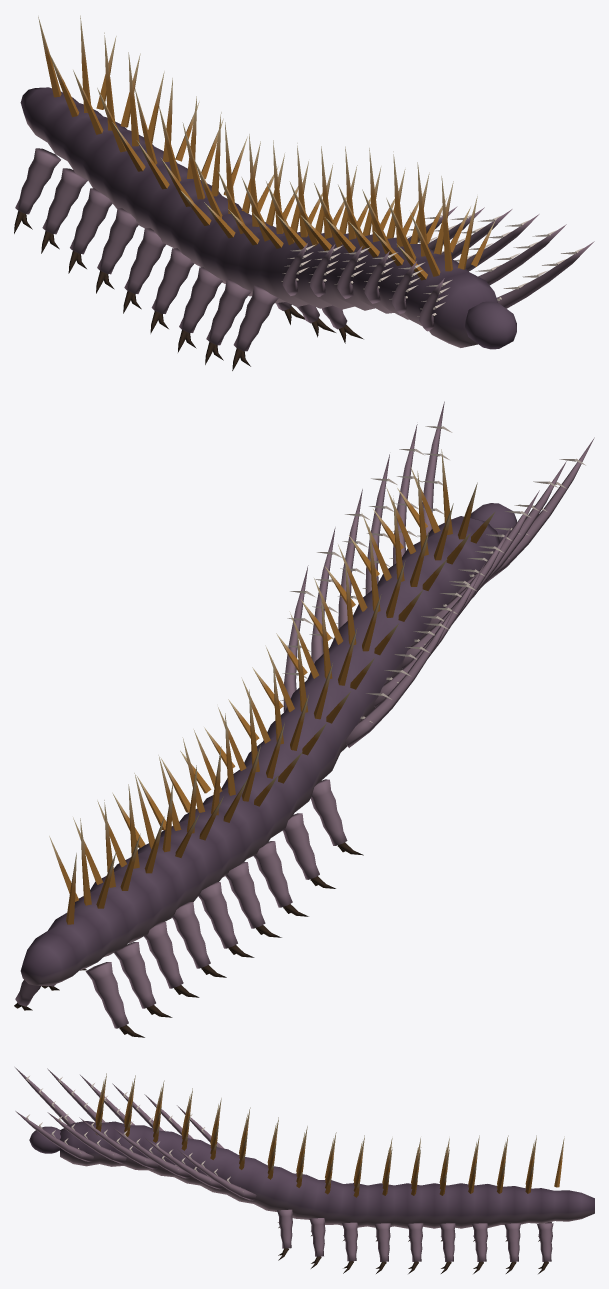
The model's file is Collinsium.fbx.
3 renders of one model, top to bottom at view 1: azimuth 30°, elevation 25°; view 2: azimuth 150°, elevation 25°; view 3: azimuth 270°, elevation 25°, orthographic. The views are drawn at different scales.
Visible parts, largest first — view 1: Collinsium; view 2: Collinsium; view 3: Collinsium.
Part boxes in pixels (x1,y1,x2,y2): Collinsium: (14,15,594,370); Collinsium: (14,401,594,1037); Collinsium: (15,1067,594,1273).
Size of the model in its own units: 0.29 by 0.5312 by 1.52.
